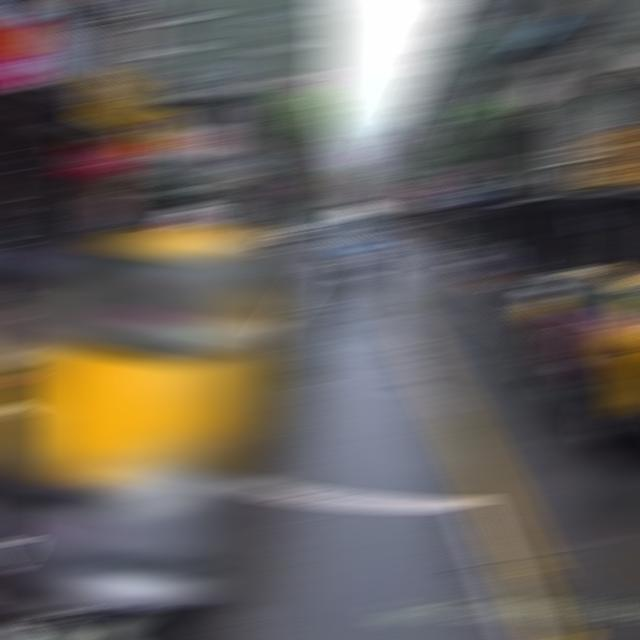Taxi: (11, 230, 280, 608)
